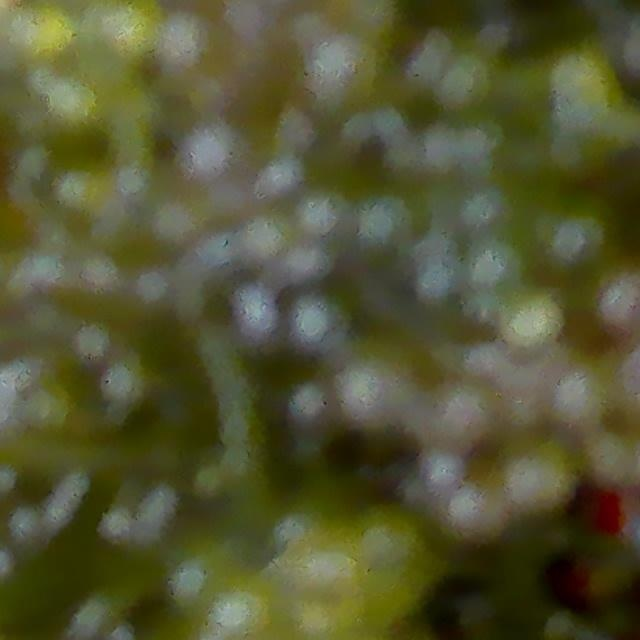SeaGrape: (173, 108, 258, 211), (287, 528, 367, 624), (150, 20, 231, 96), (531, 201, 613, 275), (463, 230, 529, 294), (219, 593, 279, 640)
